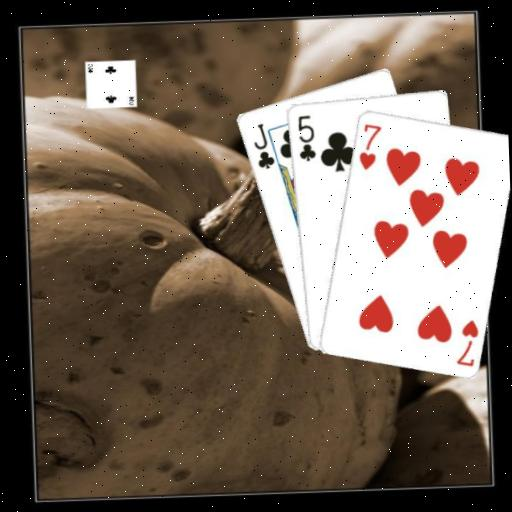5C: (293, 111, 317, 162)
7H: (354, 120, 384, 172), (451, 316, 480, 368)
JC: (249, 119, 276, 170)
